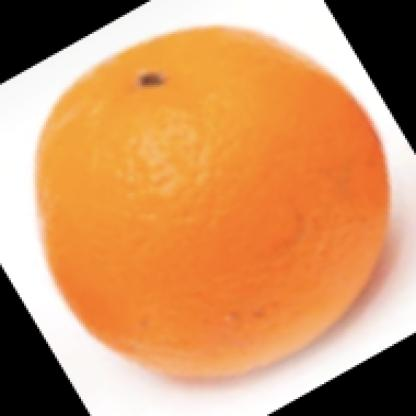fresh: (35, 27, 387, 385)
